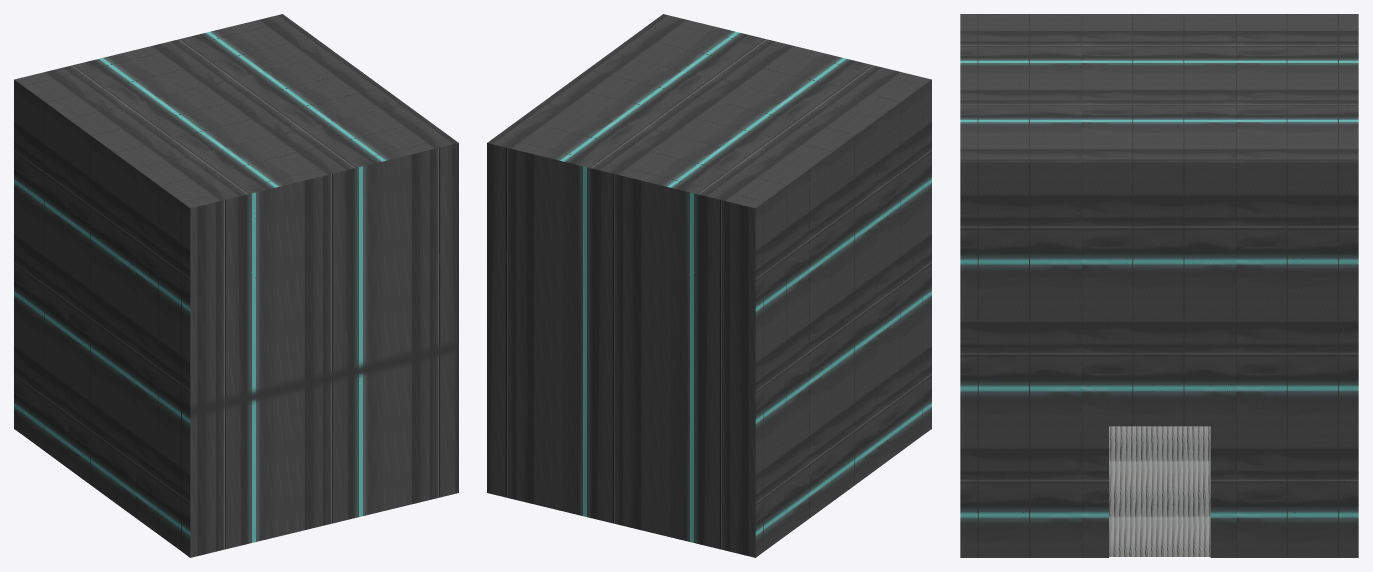
Rendered from Building2.fbx.
3 views of the same model, side by side, from view 1: azimuth 30°, elevation 25°; view 2: azimuth 150°, elevation 25°; view 3: azimuth 270°, elevation 25° (orthographic). The views are drawn at different scales.
Parts seen in each view (by area): view 1: Cube; view 2: Cube; view 3: Cube.
Boxes of the visible parts, x1,y1,x2,y2 form: Cube: [14, 14, 458, 557]; Cube: [487, 14, 931, 557]; Cube: [960, 14, 1358, 557].
Bounding box in the file's own units: 1230 × 1547 × 1397.
